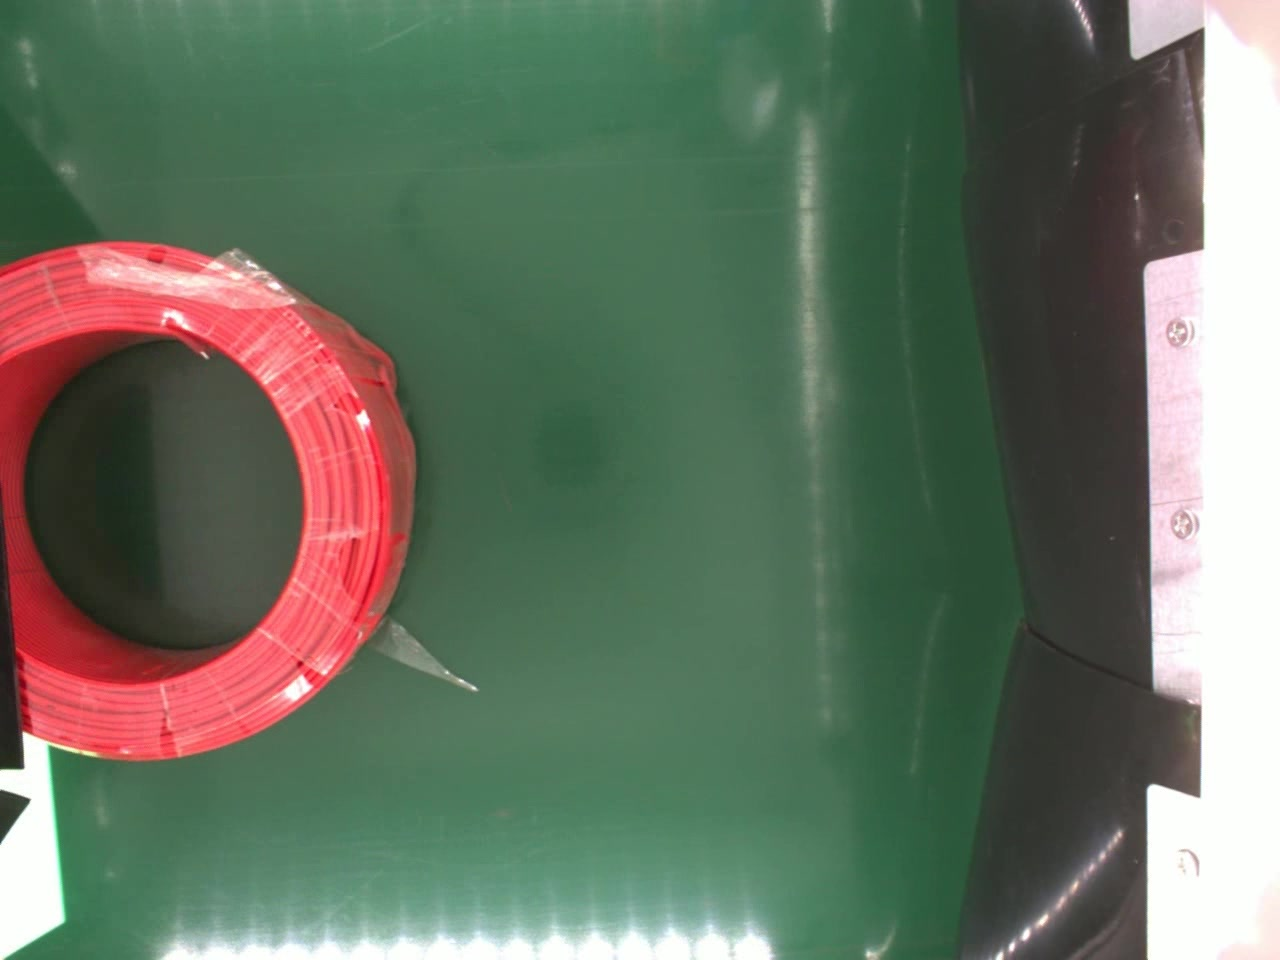red: (0, 241, 419, 753)
